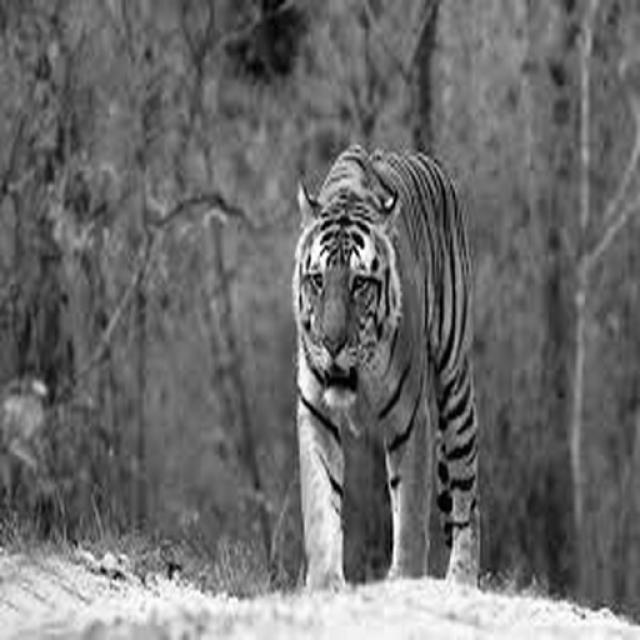Tiger: (290, 141, 482, 594)
